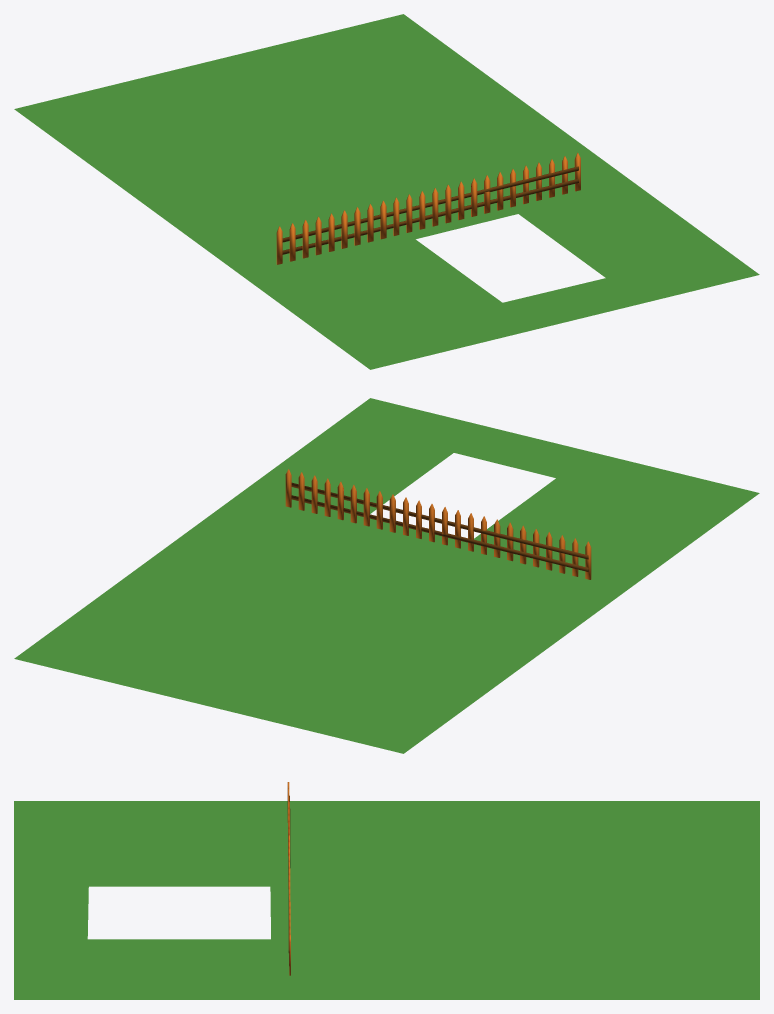
The picture shows the model from 3 angles, top to bottom: view 1: azimuth 30°, elevation 25°; view 2: azimuth 150°, elevation 25°; view 3: azimuth 270°, elevation 25°; orthographic projection. The views are drawn at different scales.
Parts seen in each view (by area): view 1: Plane, Cube.278; view 2: Plane, Cube.278; view 3: Plane, Cube.278.
Boxes of the visible parts, x1=… form: Plane: x1=14, y1=14, x2=759, y2=369; Cube.278: x1=276, y1=152, x2=580, y2=264; Plane: x1=14, y1=398, x2=759, y2=753; Cube.278: x1=285, y1=469, x2=591, y2=579; Plane: x1=14, y1=801, x2=759, y2=999; Cube.278: x1=287, y1=782, x2=290, y2=975.
Size of the model in its own units: 1349 by 129 by 2137.
